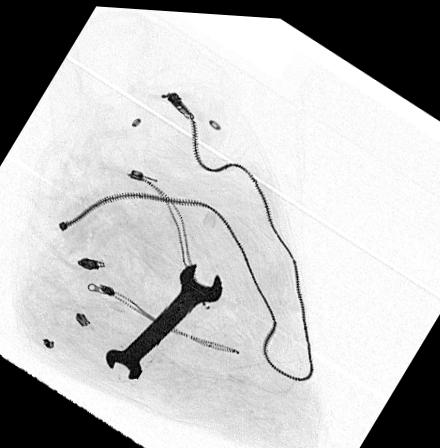Wrench: (103, 259, 225, 378)
